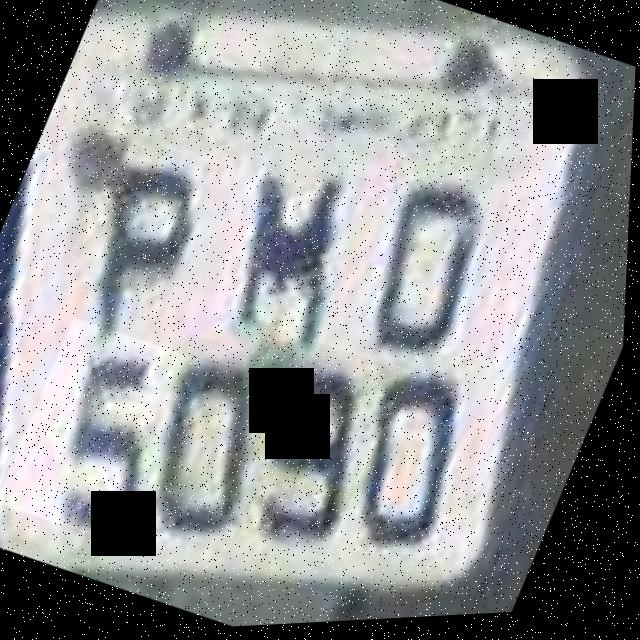0: (310, 333, 517, 592), (115, 331, 311, 563)
5: (0, 312, 219, 558)
9: (223, 335, 409, 566)
P: (35, 117, 240, 379)
